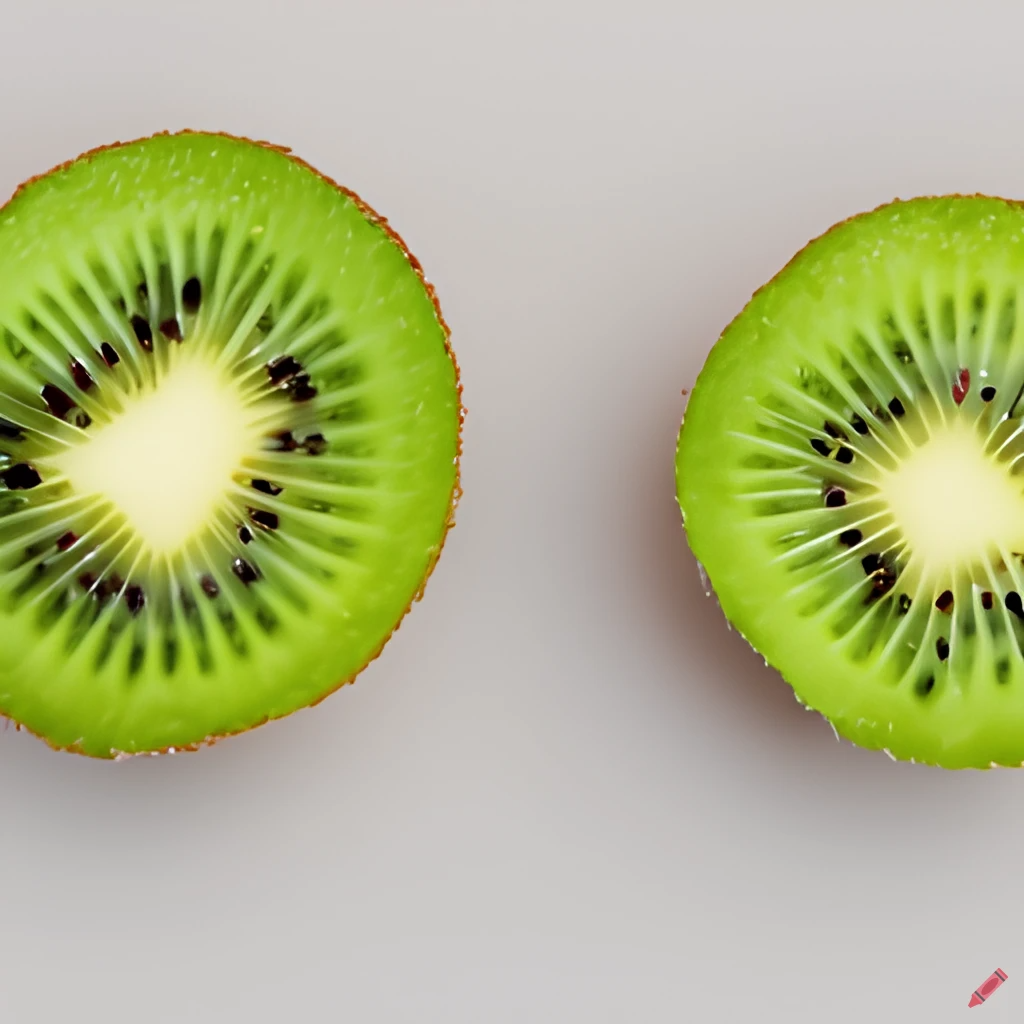Kiwi: (0, 46, 475, 781)
